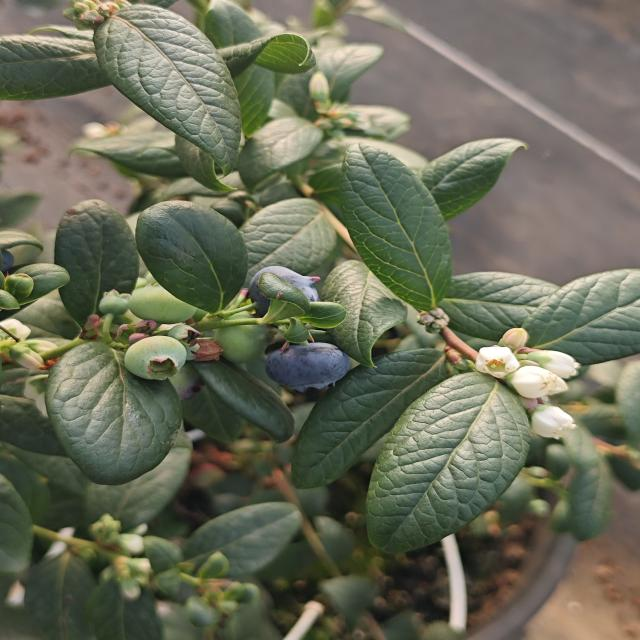ripe: (262, 340, 352, 394), (244, 264, 324, 320)
